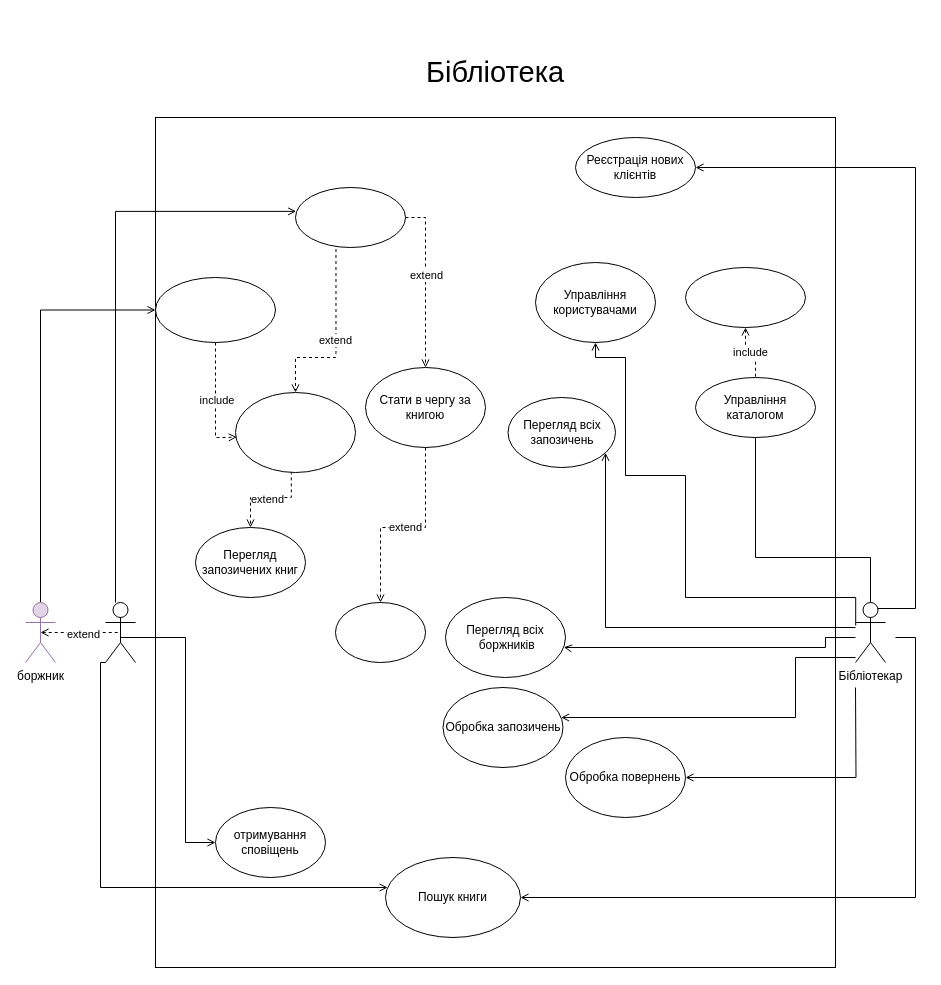
Image size: 941x985. Some labels were removed from this diagram. The centre of each missing label's shape, as x and y in pixels:
Авторизація: [350,217]
додавання нових книжок: [745,297]
Запозичення книги: [295,432]
патрон: [120,632]
Перегляд черги: [380,632]
Повернення книги: [215,309]
